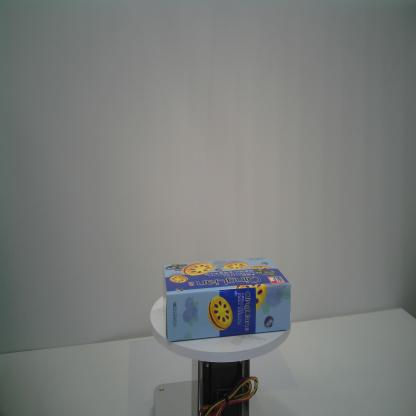Dessert: (161, 255, 292, 343)
